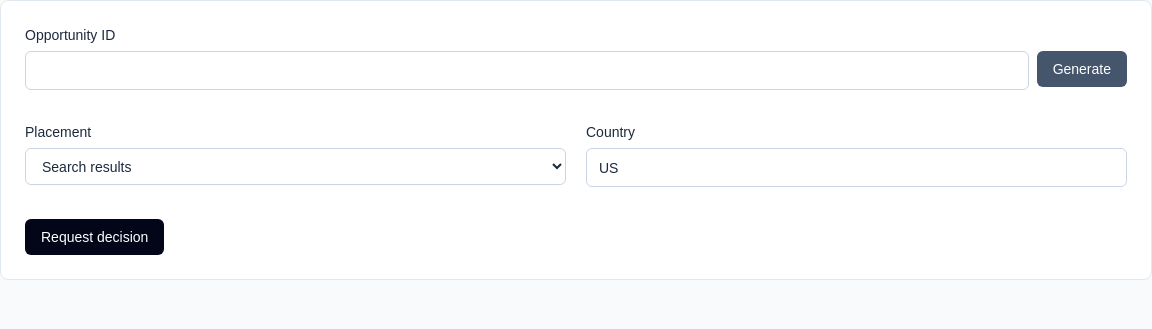
Scenario: DecisionLab › shows backend unavailability as an explicit state
The image size is (1152, 329).
Step 1. Type "51000000-0000-4000-8000-000000000001" into the field labelled "Opportunity ID" → (527, 70), box [25,51,1029,90]
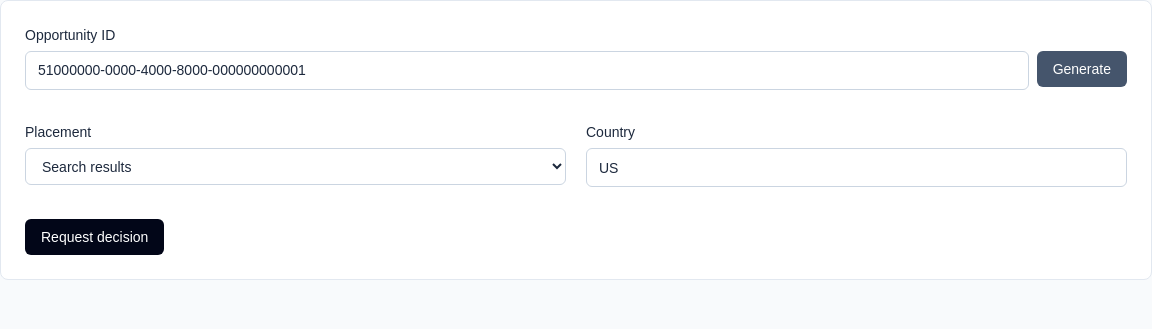
Step 2. Replace the text in the field labelled "Country" with "us" → (856, 168), box [586,148,1127,187]
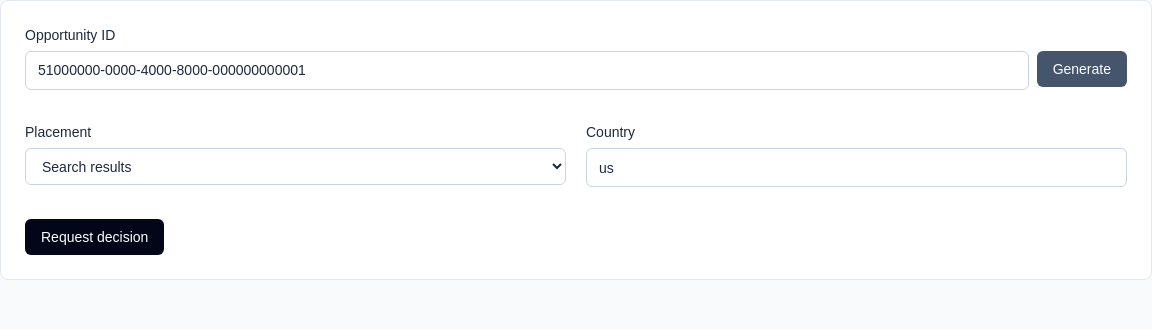
Step 3. Click the button "Request decision" → (95, 237), box [25,219,164,255]
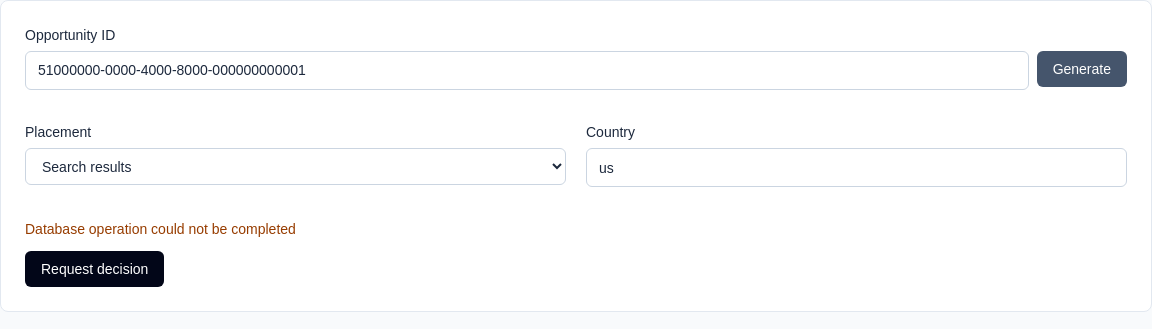
expect the message reads "Database operation could not be completed": met, box [25,221,296,237]
